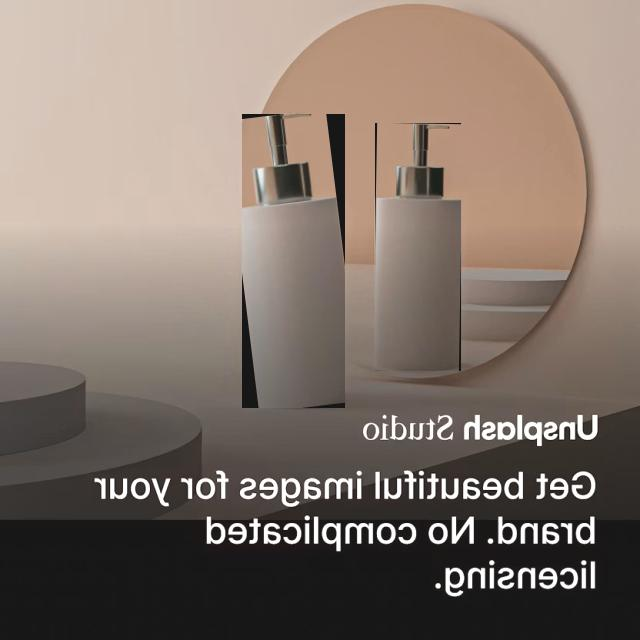Bottle: (242, 114, 343, 408), (374, 124, 459, 370)
